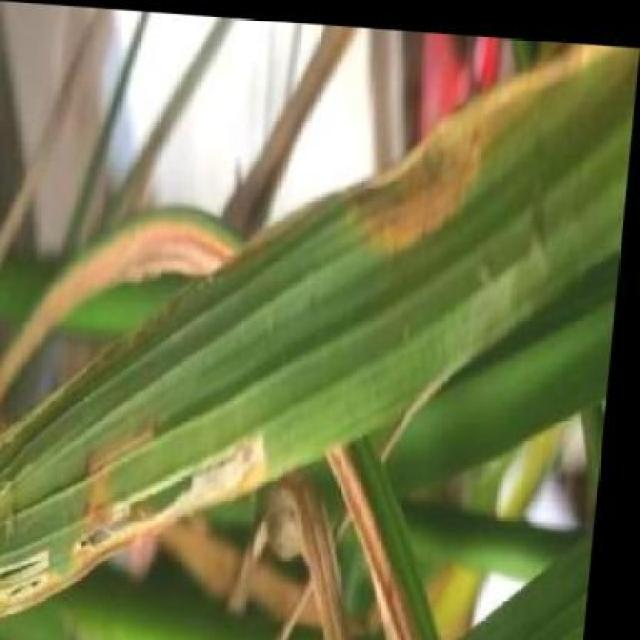Brown_Spot: (269, 58, 636, 348)
